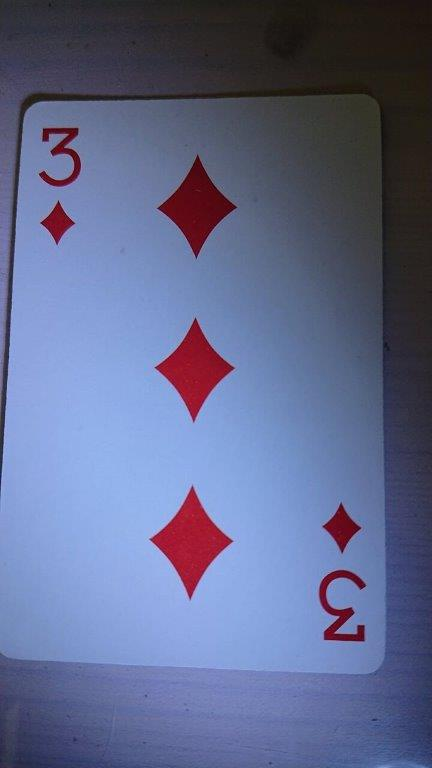3D: (1, 90, 389, 677)
